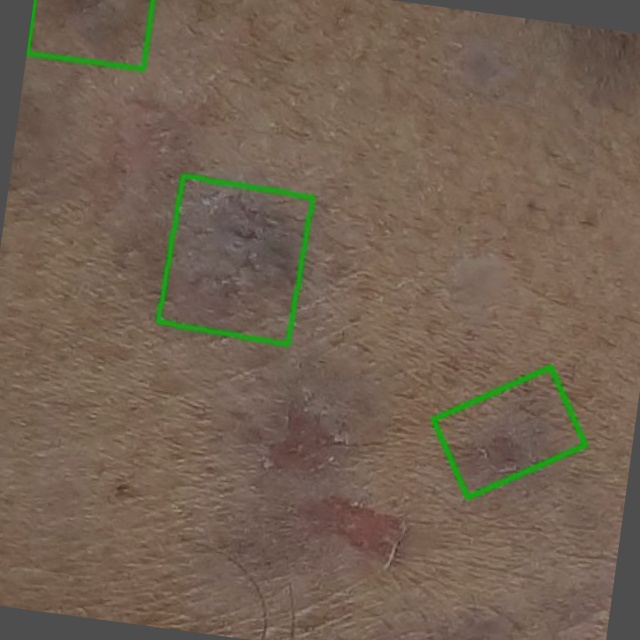Contact Dermatitis: (159, 176, 312, 344), (433, 367, 585, 497), (27, 0, 152, 68)
